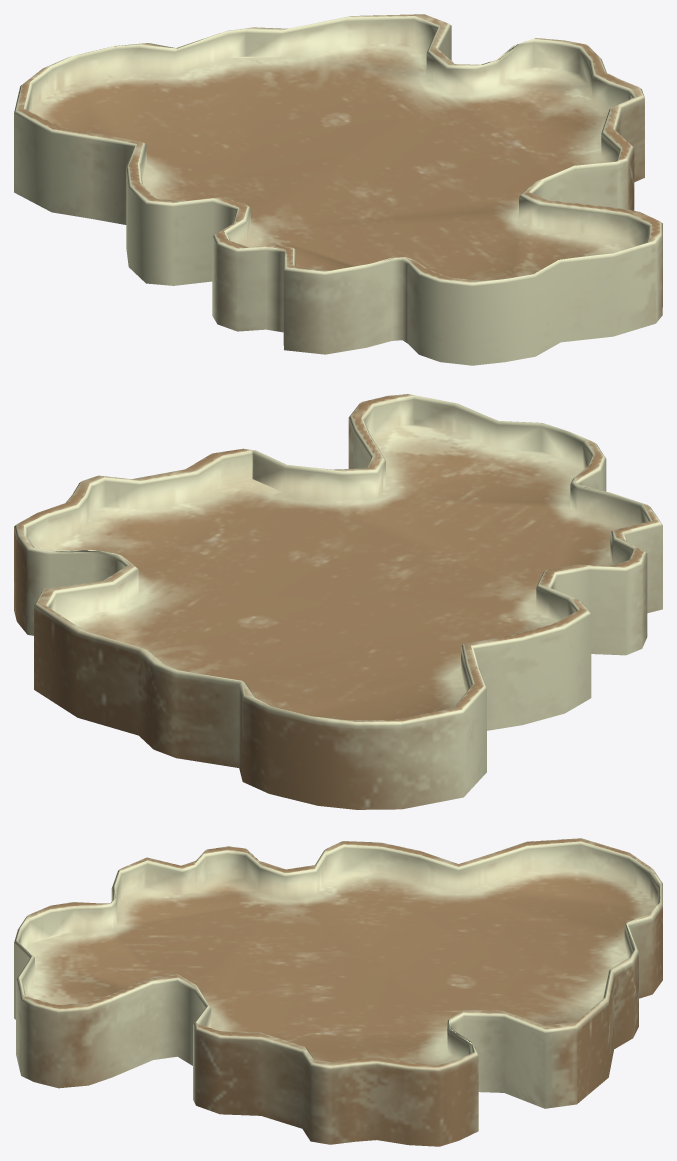
File: Plates_Big_2.fbx
The picture shows the model from 3 angles, top to bottom: view 1: azimuth 30°, elevation 25°; view 2: azimuth 150°, elevation 25°; view 3: azimuth 270°, elevation 25°; orthographic projection. The views are drawn at different scales.
Parts seen in each view (by area): view 1: pCylinder5; view 2: pCylinder5; view 3: pCylinder5.
Part boxes in pixels (<box>): pCylinder5: <box>14,14,662,365</box>; pCylinder5: <box>14,394,662,809</box>; pCylinder5: <box>14,838,662,1146</box>.
Bounding box in the file's own units: 25.27 × 3.95 × 29.88.
